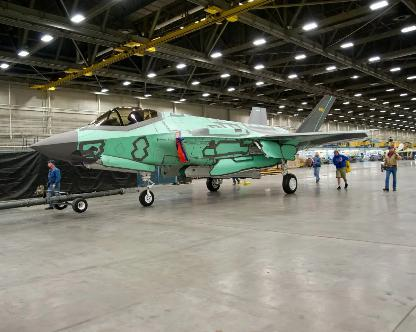F22: (28, 94, 380, 204)
